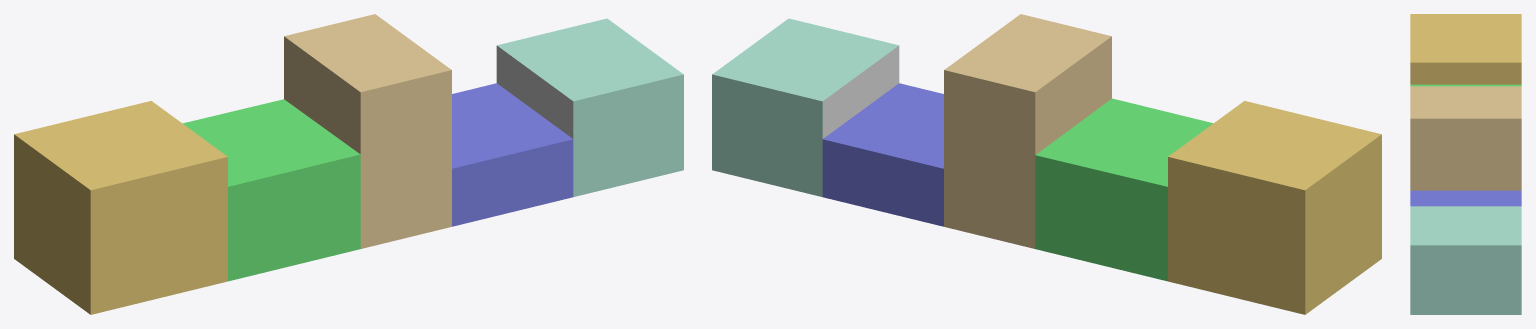
The model's file is Construcciones.fbx.
The picture shows the model from 3 angles, left to right: view 1: azimuth 30°, elevation 25°; view 2: azimuth 150°, elevation 25°; view 3: azimuth 270°, elevation 25°; orthographic projection. The views are drawn at different scales.
Parts seen in each view (by area): view 1: Cube.001, Cube.003, Cube, Cube.002, Cube.004; view 2: Cube.001, Cube.003, Cube, Cube.002, Cube.004; view 3: Cube, Cube.003, Cube.001, Cube.004, Cube.002.
Boxes of the visible parts, <box> form: Cube.001: <box>14,101,227,314</box>; Cube.003: <box>284,14,451,248</box>; Cube: <box>496,18,683,196</box>; Cube.002: <box>182,99,360,281</box>; Cube.004: <box>452,83,573,226</box>; Cube.001: <box>1168,101,1381,314</box>; Cube.003: <box>944,14,1111,248</box>; Cube: <box>712,18,899,196</box>; Cube.002: <box>1035,98,1213,281</box>; Cube.004: <box>822,83,943,226</box>; Cube: <box>1410,206,1521,314</box>; Cube.003: <box>1410,86,1521,190</box>; Cube.001: <box>1410,14,1521,84</box>; Cube.004: <box>1410,190,1521,206</box>; Cube.002: <box>1410,84,1521,86</box>.
Size of the model in its own units: 47898 by 12102 by 10713.
